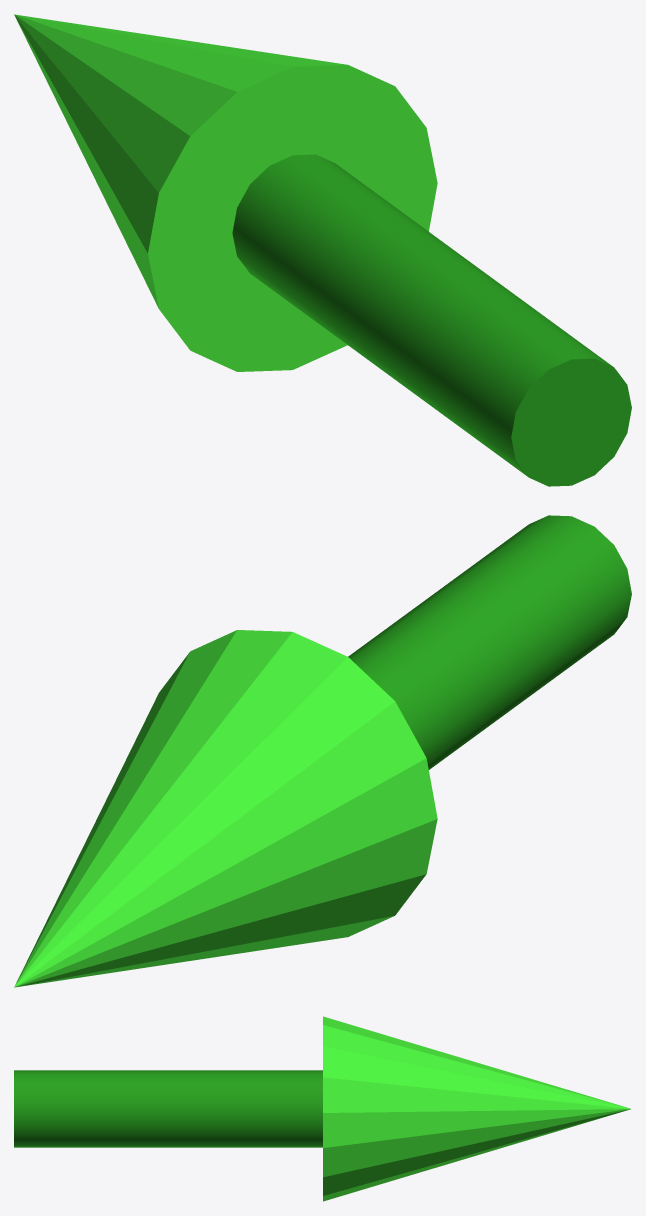
Rendered from Arrow.fbx.
3 renders of one model, top to bottom at view 1: azimuth 30°, elevation 25°; view 2: azimuth 150°, elevation 25°; view 3: azimuth 270°, elevation 25°, orthographic. The views are drawn at different scales.
Parts seen in each view (by area): view 1: Cone01, Cylinder01; view 2: Cone01, Cylinder01; view 3: Cone01, Cylinder01.
Boxes of the visible parts, x1,y1,x2,y2 form: Cone01: (14,14,437,371); Cylinder01: (232,154,631,486); Cone01: (14,630,437,987); Cylinder01: (348,515,631,769); Cone01: (323,1016,630,1201); Cylinder01: (14,1070,322,1147).
Bounding box in the file's own units: 1.2 × 1.2 × 4.
